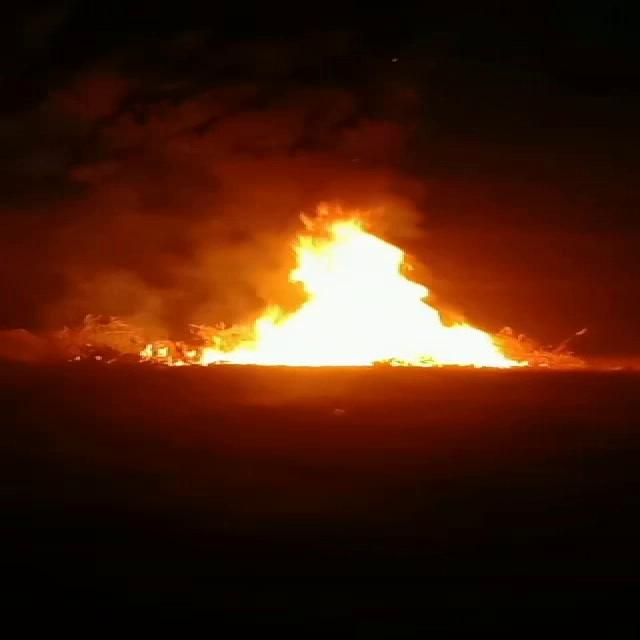Fire: (200, 223, 522, 369)
